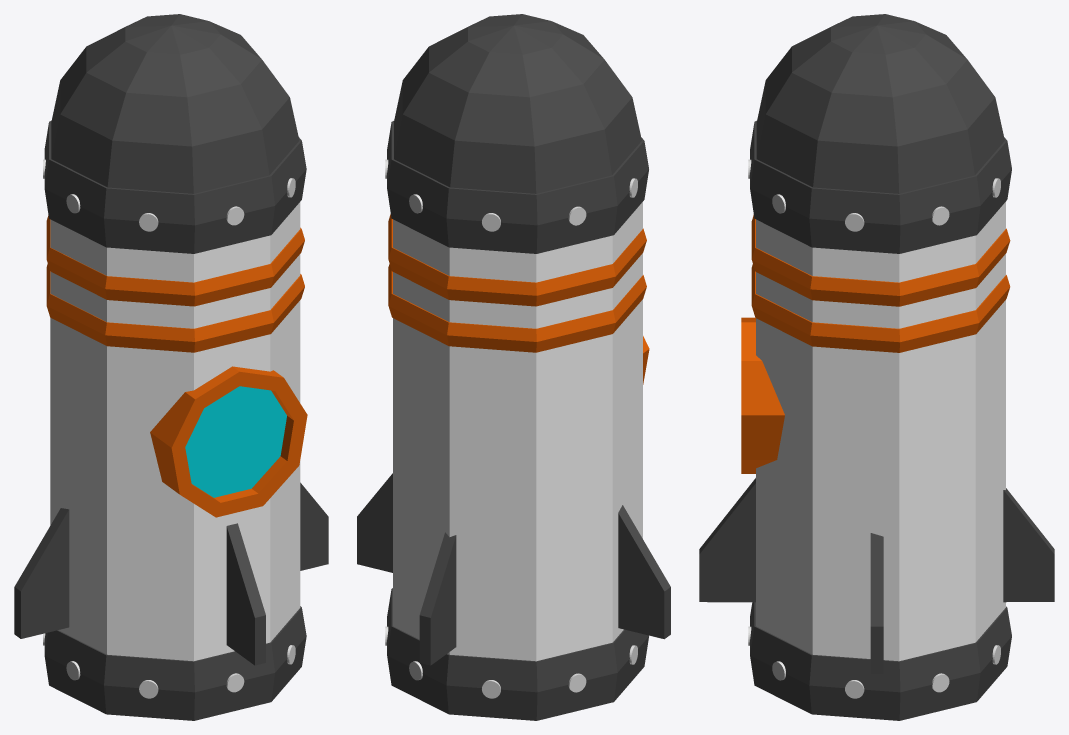
The model's file is Rocket Thin 2.fbx.
The picture shows the model from 3 angles, left to right: view 1: azimuth 30°, elevation 25°; view 2: azimuth 150°, elevation 25°; view 3: azimuth 270°, elevation 25°; orthographic projection.
Parts seen in each view (by area): view 1: Окружность.010; view 2: Окружность.010; view 3: Окружность.010.
Boxes of the visible parts, x1=… form: Окружность.010: x1=14, y1=14, x2=328, y2=720; Окружность.010: x1=357, y1=14, x2=670, y2=720; Окружность.010: x1=699, y1=14, x2=1054, y2=720.
Size of the model in its own units: 276 by 549 by 276.
